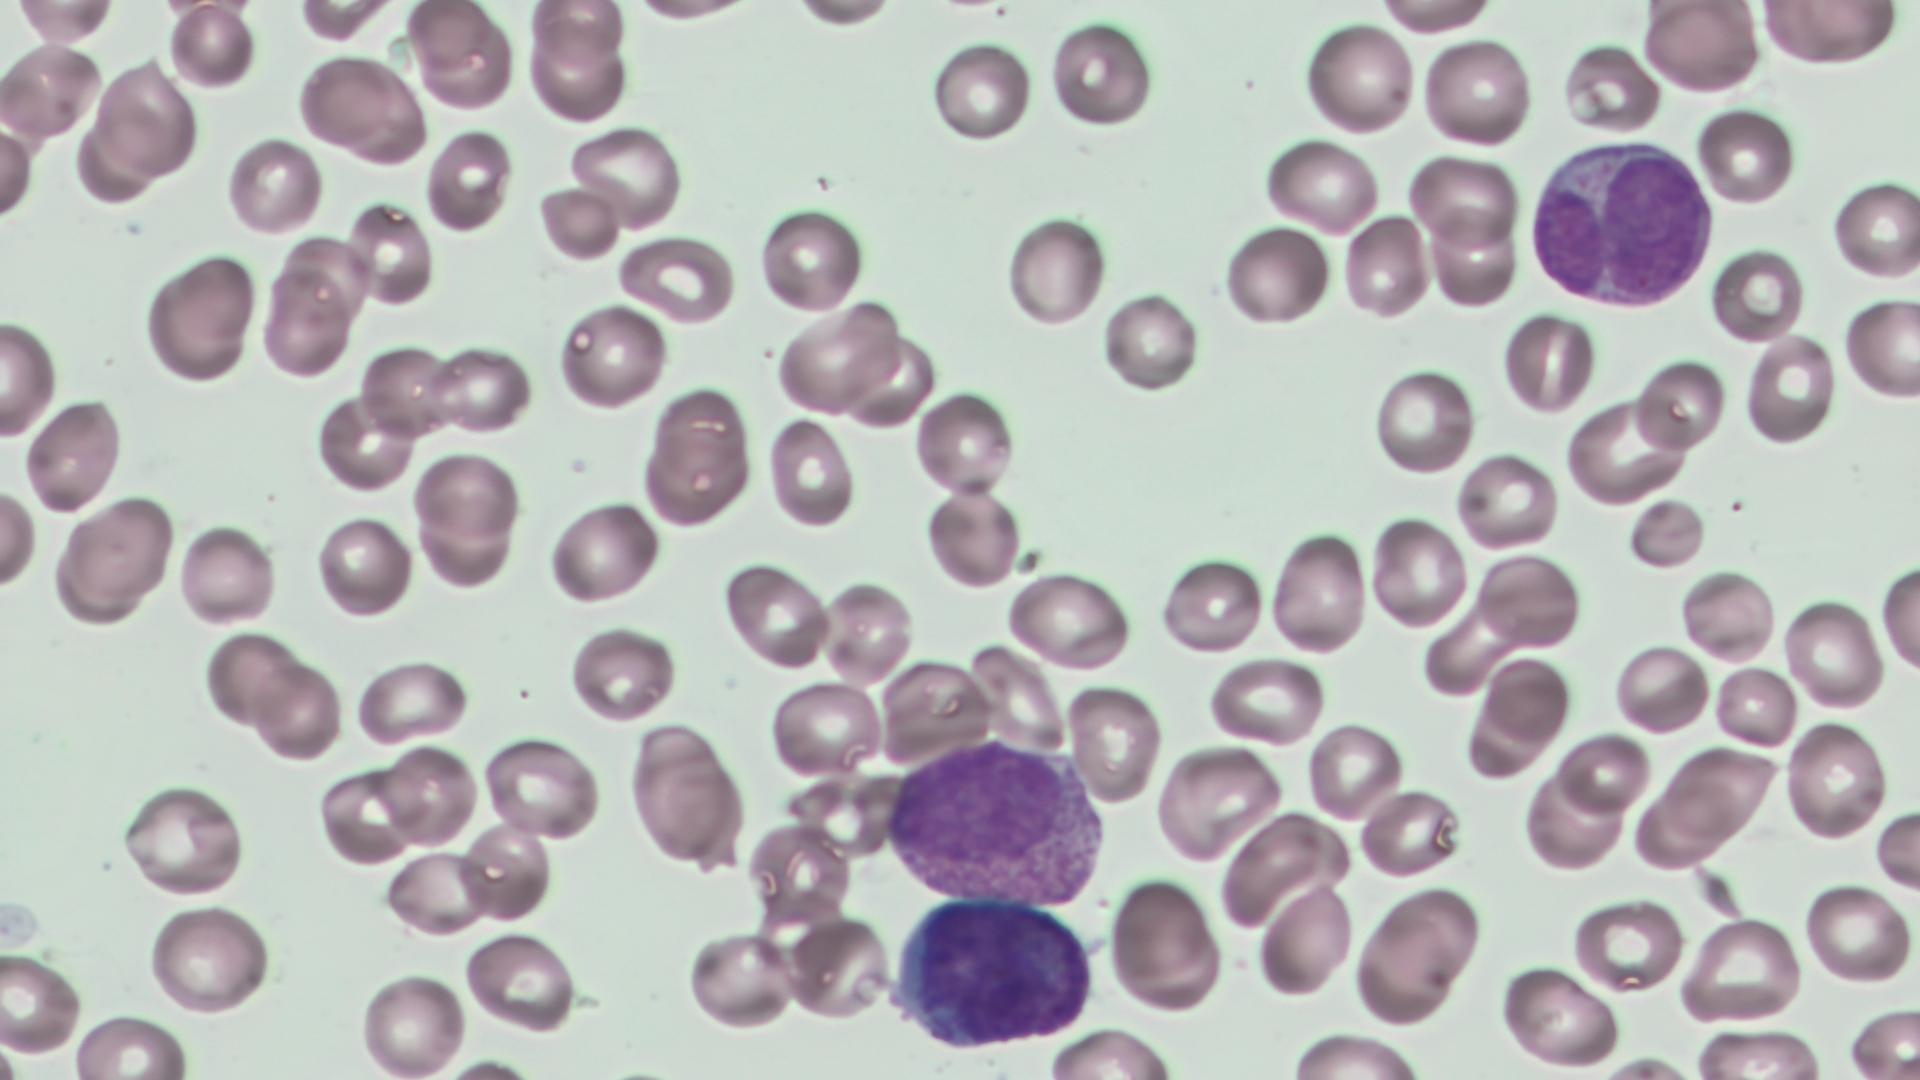RBC: (1154, 740, 1280, 866), (1106, 874, 1222, 1010), (144, 899, 274, 1018), (142, 251, 257, 384), (628, 736, 745, 866), (117, 782, 248, 897), (1349, 897, 1463, 1029), (771, 302, 902, 416), (1300, 18, 1418, 140), (56, 491, 174, 612), (1496, 958, 1623, 1070), (1418, 32, 1534, 153), (1677, 914, 1803, 1025), (1562, 396, 1688, 506), (1006, 566, 1132, 672), (755, 202, 869, 318), (1784, 718, 1888, 845), (460, 928, 582, 1036), (554, 299, 668, 414), (545, 496, 662, 608), (1046, 15, 1156, 134), (1779, 594, 1887, 715), (295, 52, 417, 157), (96, 55, 199, 179), (1268, 528, 1367, 657), (721, 557, 832, 671), (480, 736, 602, 839), (961, 639, 1069, 755), (568, 121, 687, 226), (21, 395, 124, 516), (1800, 877, 1914, 986), (1064, 682, 1166, 803), (1569, 891, 1686, 996), (1263, 134, 1380, 239), (1006, 211, 1109, 330), (1367, 512, 1469, 631), (1638, 1, 1764, 97), (359, 967, 469, 1076), (914, 386, 1020, 499), (928, 35, 1034, 148), (769, 678, 884, 782), (1222, 221, 1330, 330), (1370, 364, 1474, 477), (1255, 882, 1354, 1000), (1520, 767, 1630, 872), (566, 622, 679, 724), (788, 914, 892, 1024), (684, 929, 796, 1031), (1406, 151, 1521, 250), (1694, 102, 1798, 210), (1100, 286, 1201, 396), (617, 233, 738, 324), (413, 9, 517, 114), (1455, 449, 1560, 553), (174, 520, 277, 626), (1204, 655, 1323, 746), (259, 263, 351, 380), (313, 391, 415, 496), (316, 762, 417, 868), (1476, 549, 1582, 650), (1743, 332, 1836, 447), (379, 738, 478, 846), (764, 415, 858, 528), (224, 133, 326, 237), (314, 513, 413, 620), (1, 38, 103, 141), (822, 578, 918, 687), (427, 341, 536, 437), (924, 487, 1024, 591), (1341, 211, 1434, 322), (525, 25, 628, 125), (1160, 553, 1264, 652), (344, 198, 436, 309), (201, 628, 300, 730), (410, 449, 522, 539), (1501, 307, 1596, 413), (354, 656, 468, 744), (458, 820, 553, 925), (423, 125, 513, 235), (642, 432, 744, 529), (1611, 640, 1713, 737), (252, 656, 345, 762), (1828, 175, 1918, 284), (1422, 210, 1521, 308), (358, 341, 456, 440), (1306, 722, 1403, 822), (1680, 567, 1776, 668), (381, 847, 491, 935), (1354, 788, 1462, 877), (1708, 245, 1804, 345), (1758, 2, 1902, 68), (414, 498, 518, 589), (0, 948, 84, 1060), (1560, 40, 1659, 134), (1634, 355, 1726, 451), (69, 1010, 193, 1079), (1839, 295, 1917, 403), (1558, 730, 1652, 818), (167, 2, 258, 92), (1483, 653, 1572, 742), (1689, 1023, 1827, 1078), (1042, 1024, 1178, 1079), (0, 315, 59, 441), (1285, 1027, 1426, 1079), (1712, 664, 1798, 748), (537, 184, 621, 261), (526, 0, 630, 61), (406, 0, 494, 70), (1623, 496, 1707, 568), (1845, 1002, 1920, 1078), (1875, 556, 1920, 682), (293, 0, 401, 42), (1373, 0, 1495, 36), (0, 482, 38, 596), (0, 118, 37, 230), (1874, 806, 1920, 896), (788, 0, 899, 28)
WBC: (881, 735, 1108, 910), (882, 894, 1102, 1054), (1523, 132, 1718, 309)
